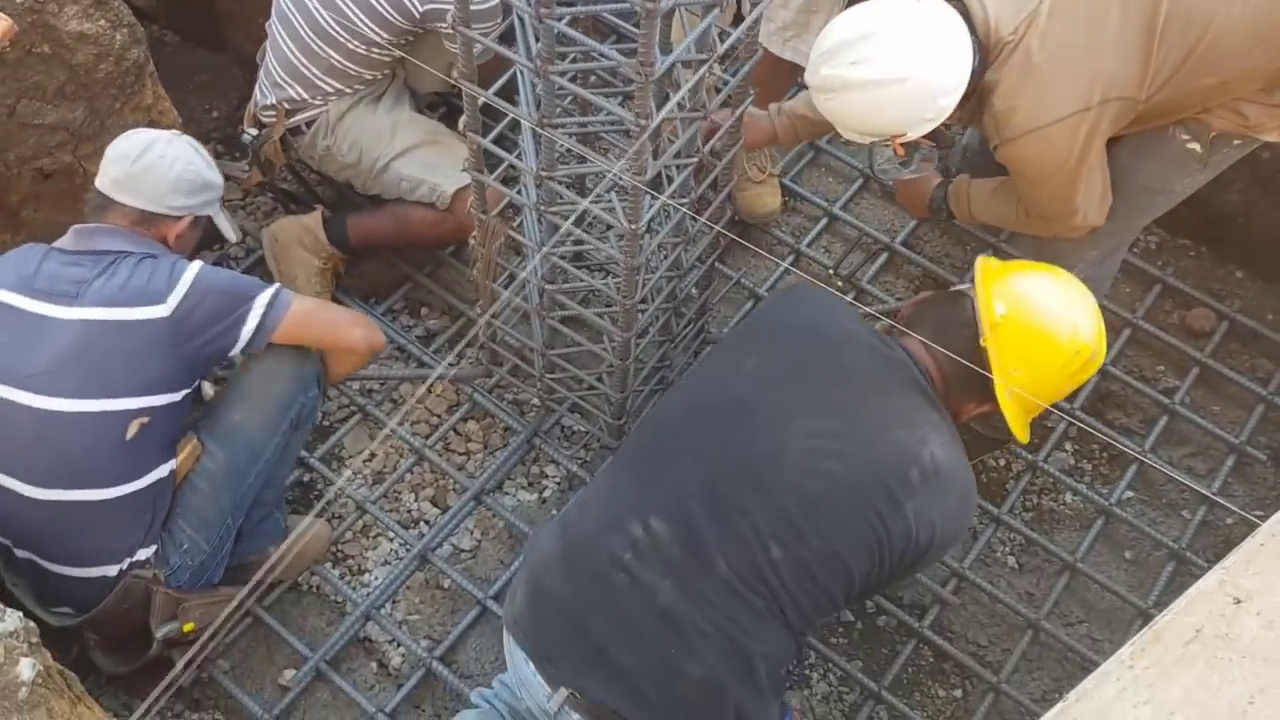helmet: (783, 0, 973, 151), (963, 260, 1107, 451)
helmet-off: (78, 126, 220, 257)
helmet-on: (887, 259, 1103, 444), (782, 3, 1003, 150)
person: (458, 263, 1104, 720), (0, 119, 387, 656), (782, 2, 1278, 299), (227, 0, 500, 306), (636, 0, 818, 218)
